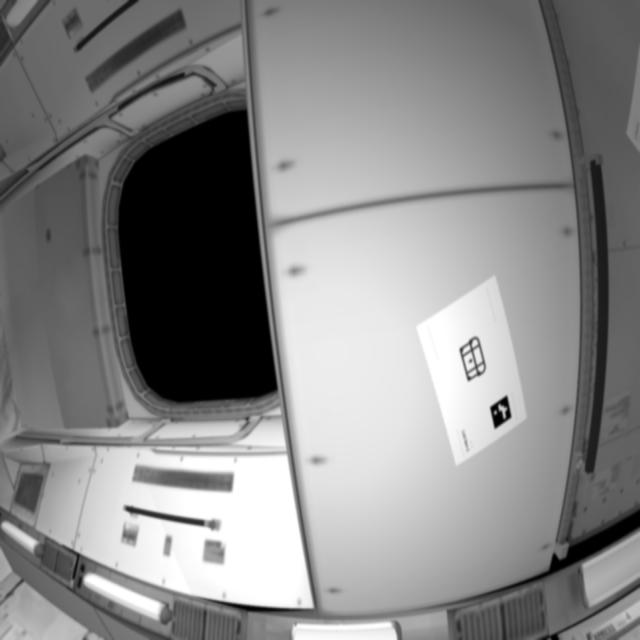treasure_box: (459, 334, 490, 384)
